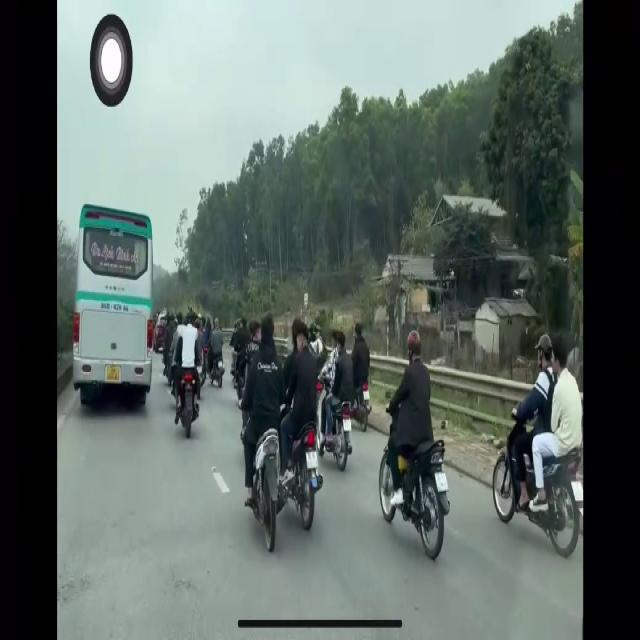helmet: (406, 327, 423, 374), (535, 327, 551, 374)
no_helmet: (551, 329, 572, 388), (262, 309, 276, 364), (296, 318, 310, 359), (336, 323, 348, 360), (249, 315, 260, 346)
